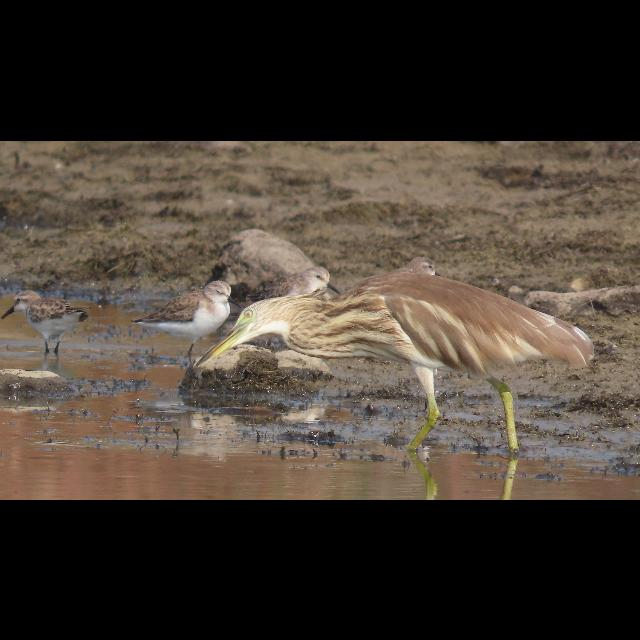heron: (178, 264, 604, 452)
